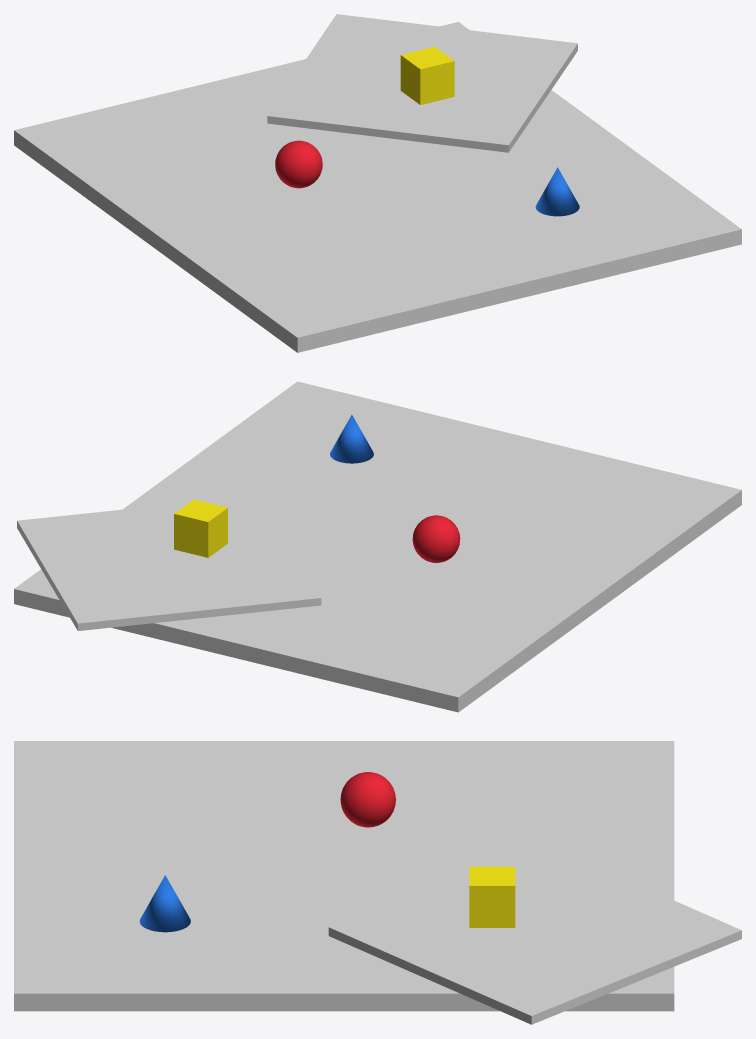
The model's file is BlenderScene.fbx.
3 renders of one model, top to bottom at view 1: azimuth 30°, elevation 25°; view 2: azimuth 150°, elevation 25°; view 3: azimuth 270°, elevation 25°, orthographic. The views are drawn at different scales.
Parts seen in each view (by area): view 1: Floor, Floor.001, Cube, Sphere, Cone; view 2: Floor, Floor.001, Cube, Sphere, Cone; view 3: Floor, Floor.001, Cube, Sphere, Cone.
Part boxes in pixels (x1,y1,x2,y2): Floor: [14, 22, 741, 352]; Floor.001: [267, 14, 577, 152]; Cube: [400, 46, 454, 104]; Sphere: [275, 140, 322, 188]; Cone: [535, 167, 579, 216]; Floor: [14, 381, 741, 712]; Floor.001: [17, 495, 321, 630]; Cube: [174, 499, 227, 557]; Sphere: [412, 515, 460, 562]; Cone: [330, 414, 373, 463]; Floor: [14, 741, 674, 1011]; Floor.001: [328, 841, 741, 1024]; Cube: [469, 866, 515, 927]; Sphere: [340, 772, 395, 827]; Cone: [139, 875, 190, 932].
Size of the model in its own units: 163 by 19.49 by 176.
